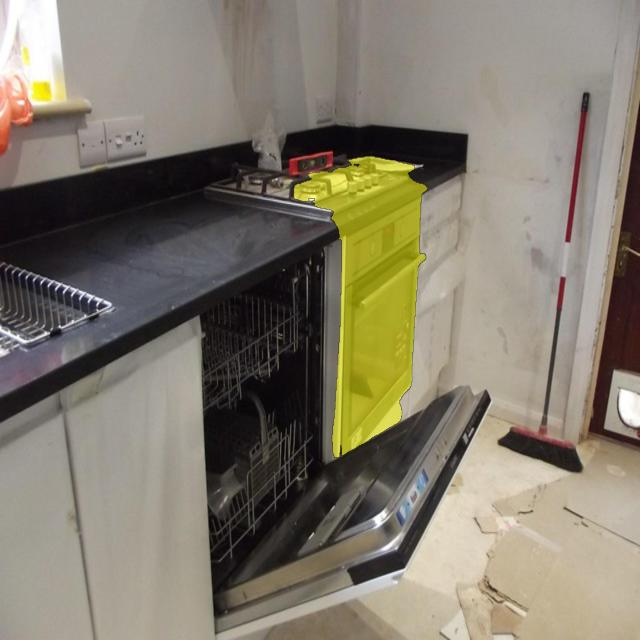dishwasher: (197, 242, 482, 634)
